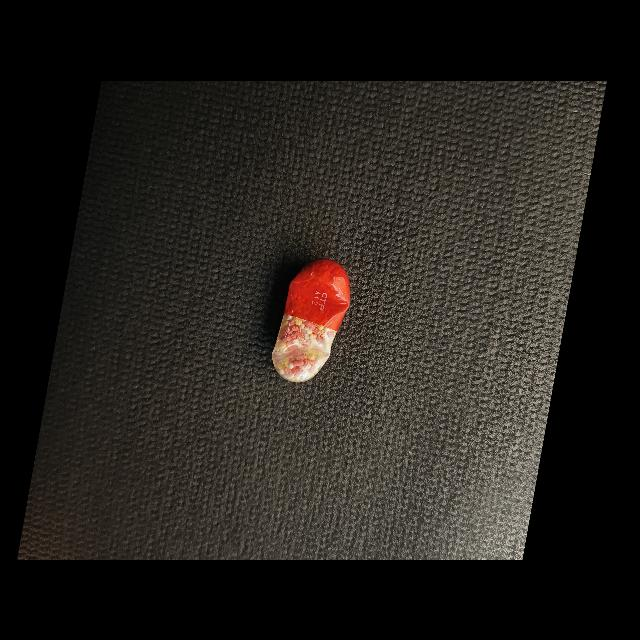Defective Capsule: (272, 258, 350, 382)
